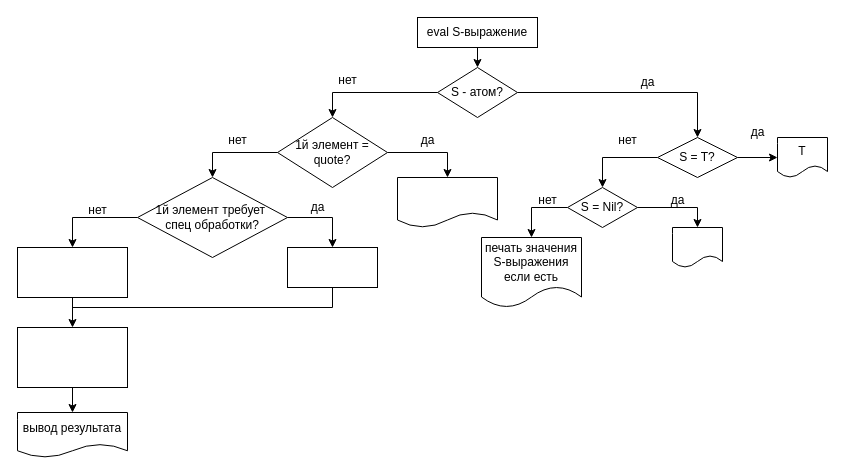
Some shapes in this 845 by 475 pixel diagram are drawn without their labels. Each missing label, with the centre of its shape:
"Nil" belongs at point 697,247.
"выполнить спец обработку" belongs at point 332,267.
"печать второго элемента" belongs at point 447,202.
"применить 1й элемент к значениям аргументов" belongs at point 72,357.
"применить eval ко всем элементам кроме первого" belongs at point 72,272.
